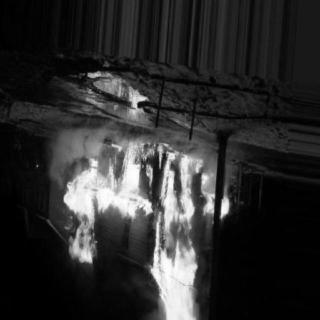Fire: (142, 143, 222, 319), (63, 138, 143, 276)
